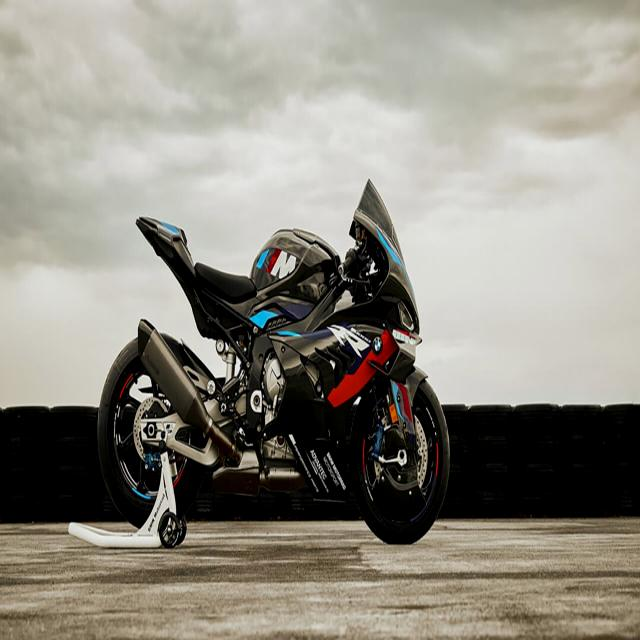MOTORCYCLE: (90, 184, 450, 549)
